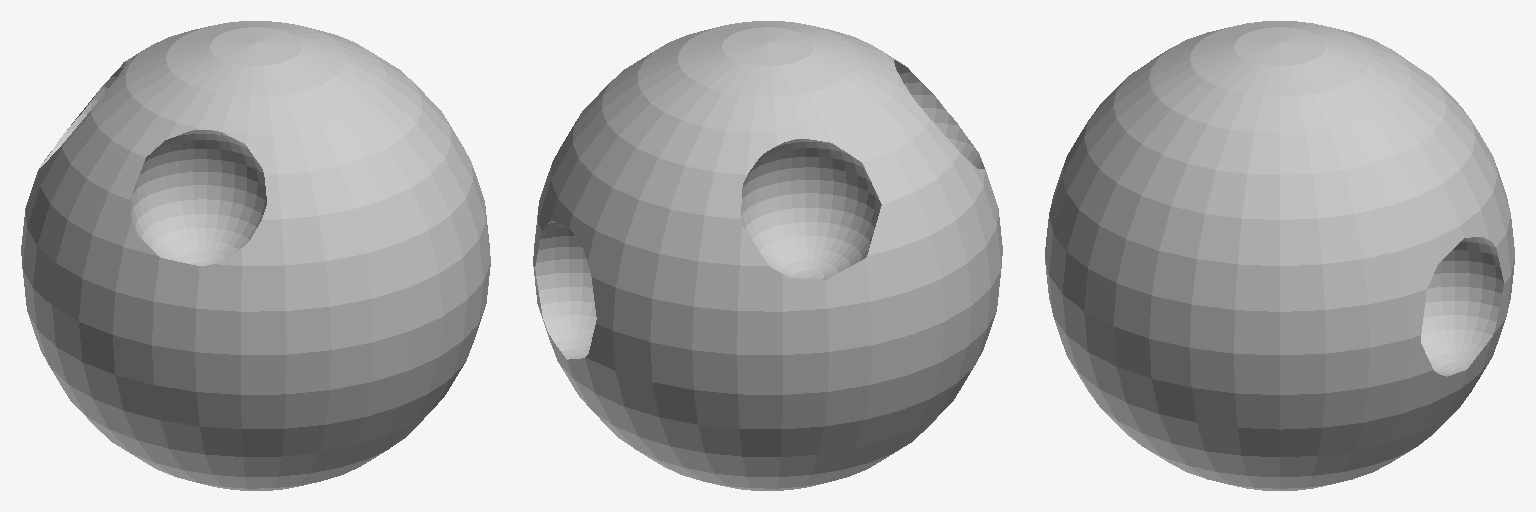
The model's file is asteroid.obj.
3 views of the same model, side by side, from view 1: azimuth 30°, elevation 25°; view 2: azimuth 150°, elevation 25°; view 3: azimuth 270°, elevation 25° (orthographic).
Visible parts, largest first — view 1: Sfera; view 2: Sfera; view 3: Sfera.
Boxes of the visible parts, <box> form: Sfera: <box>21,21,490,490</box>; Sfera: <box>533,21,1002,490</box>; Sfera: <box>1045,21,1514,490</box>.
Size of the model in its own units: 10.05 by 10.05 by 10.05.